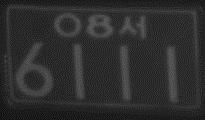0: (53, 11, 82, 38)
1: (60, 42, 99, 100), (107, 45, 145, 100), (154, 45, 190, 103)
6: (14, 40, 54, 98)
8: (86, 13, 114, 39)
서: (117, 14, 147, 40)
